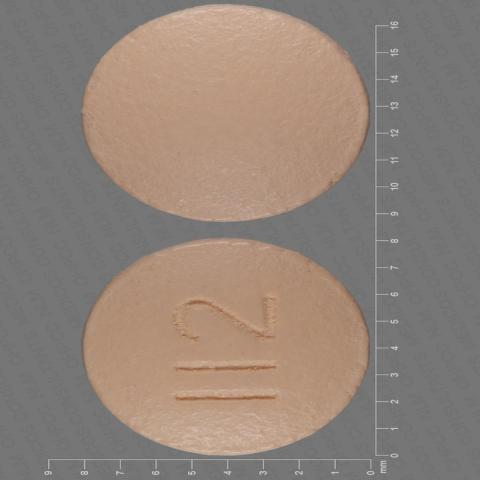Pill: (56, 1, 394, 237), (59, 214, 386, 456)
